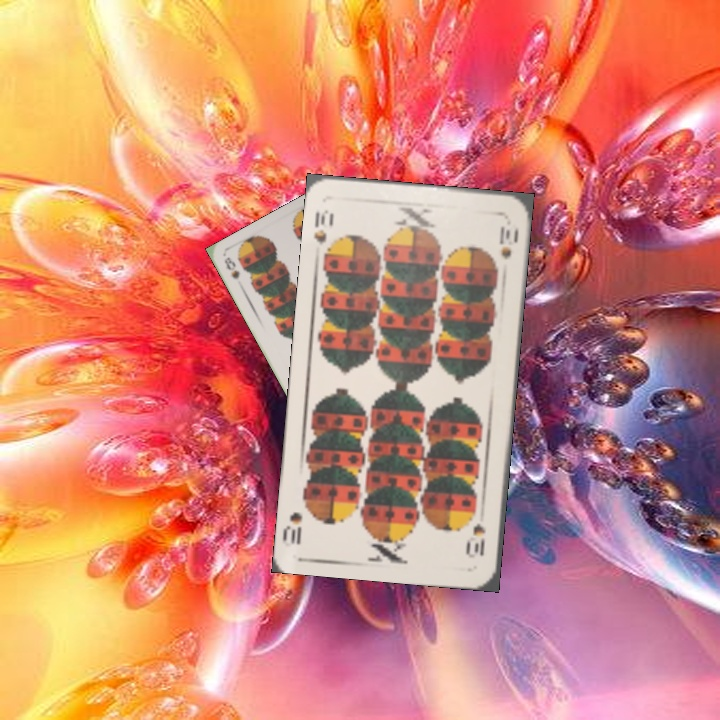S10: (310, 205, 336, 247), (468, 520, 488, 558)
S8: (220, 253, 243, 282)
